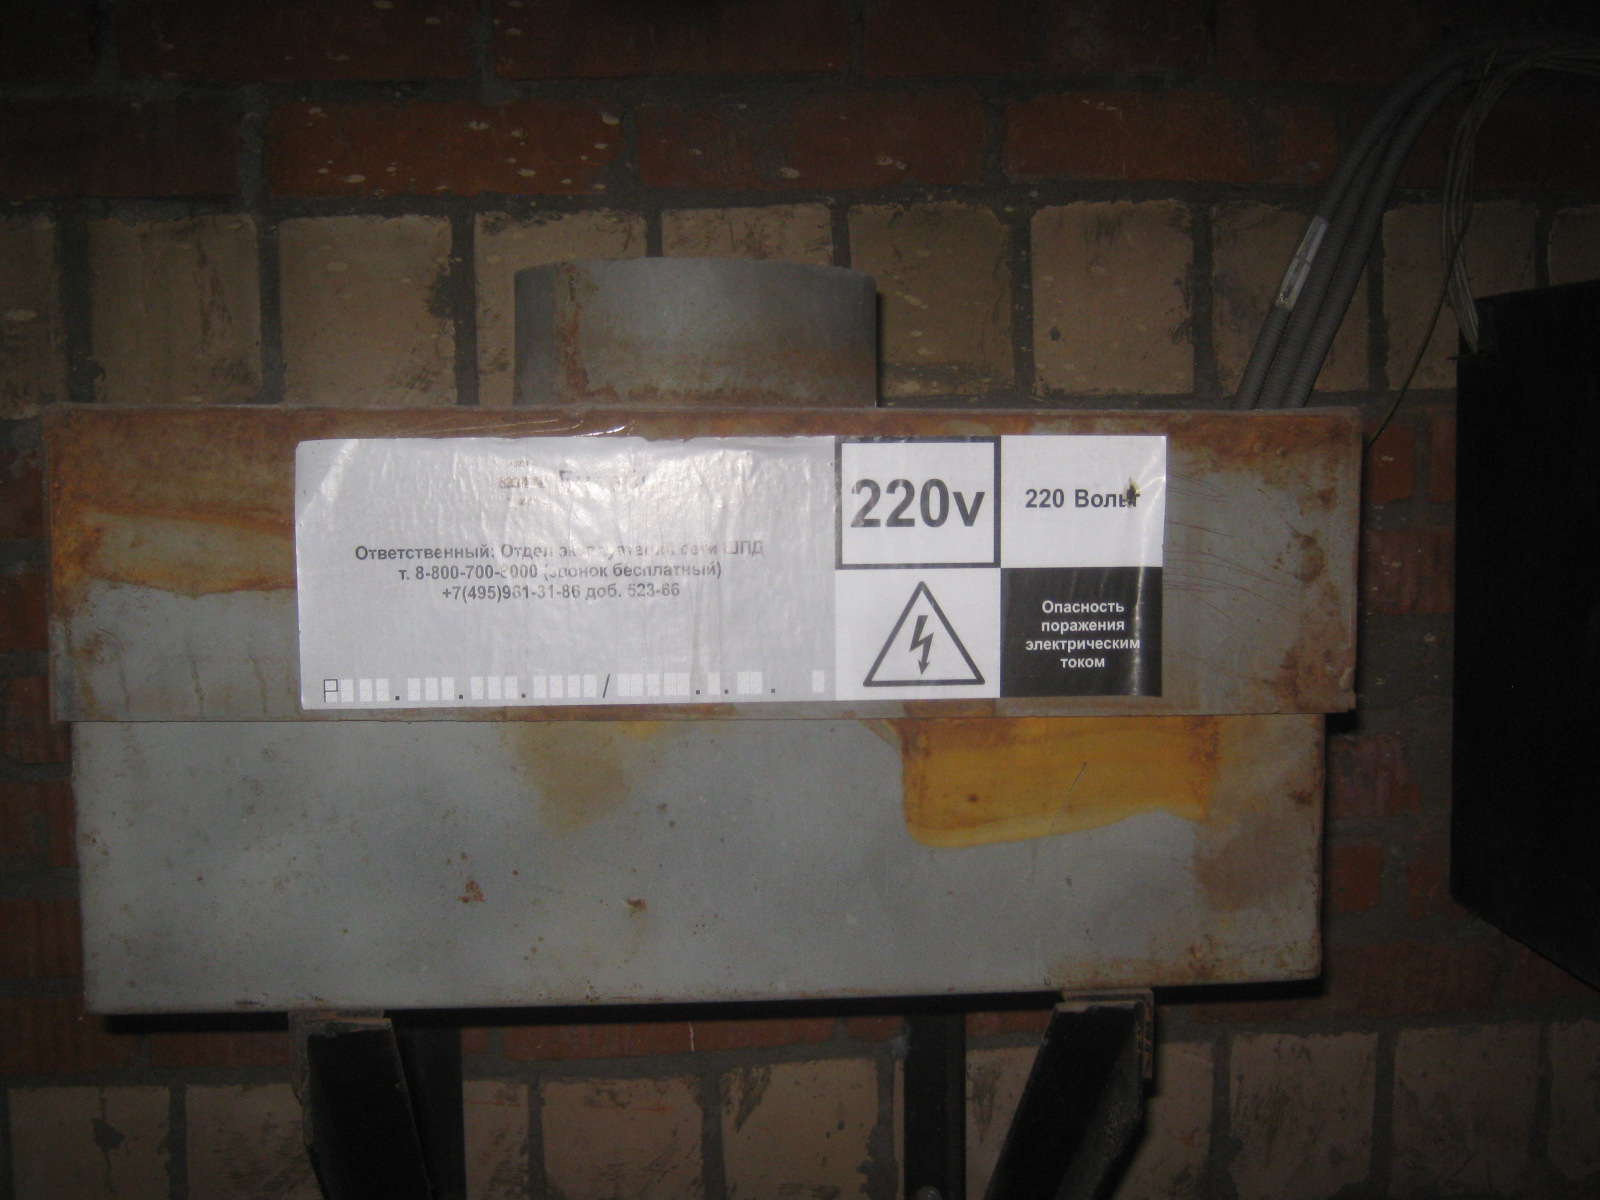shta-ps: (20, 241, 1381, 1036)
